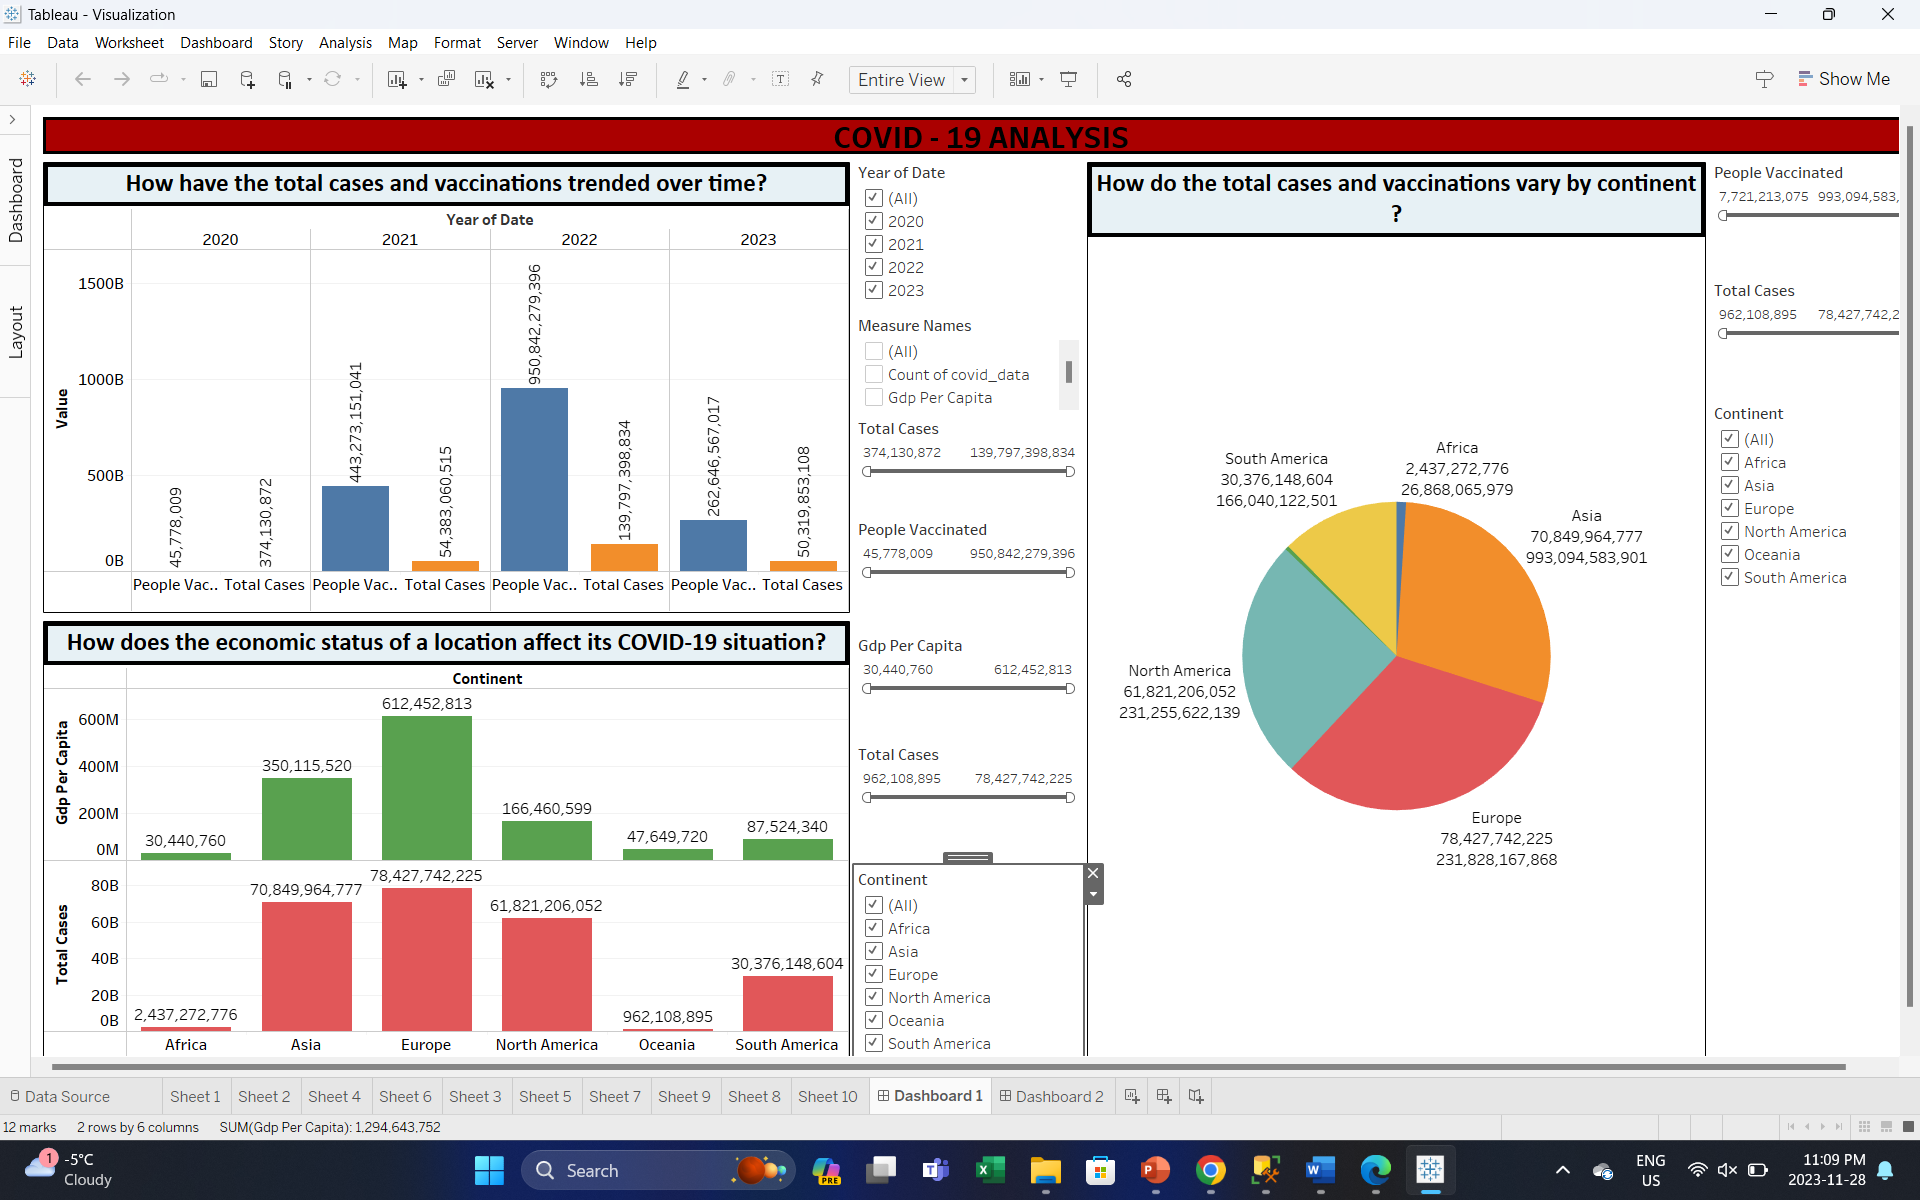

The dashboard page shown, as its layout file describes it:
{"tool":"tableau","page":{"name":"Dashboard 1","canvas":[1900,980],"ordinal":0},"visuals":[{"type":"title","box":[8,8,1884,45]},{"type":"worksheet","title":"Sheet 1","mark":"Bar","cols":["date"],"box":[8,53,814.7,459.5]},{"type":"filter","title":"Sheet 1","param":"[federated.1wxy7xx18hhed414g0ycs0h3i0rw].[tyr:date:ok]","box":[822.7,53,229.3,153.5]},{"type":"worksheet","title":"Sheet 3","mark":"Pie","box":[1052,53,627,919]},{"type":"filter","title":"Sheet 3","param":"[federated.1wxy7xx18hhed414g0ycs0h3i0rw].[sum:people_vaccinated:qk]","box":[1679,53,213,118]},{"type":"filter","title":"Sheet 3","param":"[federated.1wxy7xx18hhed414g0ycs0h3i0rw].[sum:total_cases:qk]","box":[1679,171,213,123]},{"type":"filter","title":"Sheet 1","param":"[federated.1wxy7xx18hhed414g0ycs0h3i0rw].[:Measure Names]","box":[822.7,206.5,229.3,102.9]},{"type":"filter","title":"Sheet 3","param":"[federated.1wxy7xx18hhed414g0ycs0h3i0rw].[none:continent:nk]","box":[1679,294,213,678]},{"type":"filter","title":"Sheet 1","param":"[federated.1wxy7xx18hhed414g0ycs0h3i0rw].[sum:total_cases:qk]","box":[822.7,309.4,229.3,100.1]},{"type":"filter","title":"Sheet 1","param":"[federated.1wxy7xx18hhed414g0ycs0h3i0rw].[sum:people_vaccinated:qk]","box":[822.7,409.5,229.3,116.3]},{"type":"worksheet","title":"Sheet 6","mark":"Automatic","rows":["gdp_per_capita","total_cases"],"cols":["continent"],"box":[8,512.5,814.7,459.5]},{"type":"filter","title":"Sheet 6","param":"[federated.1wxy7xx18hhed414g0ycs0h3i0rw].[sum:gdp_per_capita:qk]","box":[822.7,525.8,229.3,109.6]},{"type":"filter","title":"Sheet 6","param":"[federated.1wxy7xx18hhed414g0ycs0h3i0rw].[sum:total_cases:qk]","box":[822.7,635.4,229.3,124.9]},{"type":"filter","title":"Sheet 6","param":"[federated.1wxy7xx18hhed414g0ycs0h3i0rw].[none:continent:nk]","box":[822.7,760.3,229.3,211.7]}]}

Visuals, with their boxes in screenshot pixels (x1, y1, x2, y2):
title: {"x1": 33, "y1": 108, "x2": 1910, "y2": 153}
"Sheet 1" worksheet (Bar marks): {"x1": 33, "y1": 153, "x2": 845, "y2": 611}
"Sheet 1" filter: {"x1": 845, "y1": 153, "x2": 1073, "y2": 306}
"Sheet 3" worksheet (Pie marks): {"x1": 1073, "y1": 153, "x2": 1698, "y2": 1069}
"Sheet 3" filter: {"x1": 1698, "y1": 153, "x2": 1910, "y2": 270}
"Sheet 3" filter: {"x1": 1698, "y1": 270, "x2": 1910, "y2": 393}
"Sheet 1" filter: {"x1": 845, "y1": 306, "x2": 1073, "y2": 408}
"Sheet 3" filter: {"x1": 1698, "y1": 393, "x2": 1910, "y2": 1069}
"Sheet 1" filter: {"x1": 845, "y1": 408, "x2": 1073, "y2": 508}
"Sheet 1" filter: {"x1": 845, "y1": 508, "x2": 1073, "y2": 624}
"Sheet 6" worksheet: {"x1": 33, "y1": 611, "x2": 845, "y2": 1069}
"Sheet 6" filter: {"x1": 845, "y1": 624, "x2": 1073, "y2": 733}
"Sheet 6" filter: {"x1": 845, "y1": 733, "x2": 1073, "y2": 858}
"Sheet 6" filter: {"x1": 845, "y1": 858, "x2": 1073, "y2": 1069}
